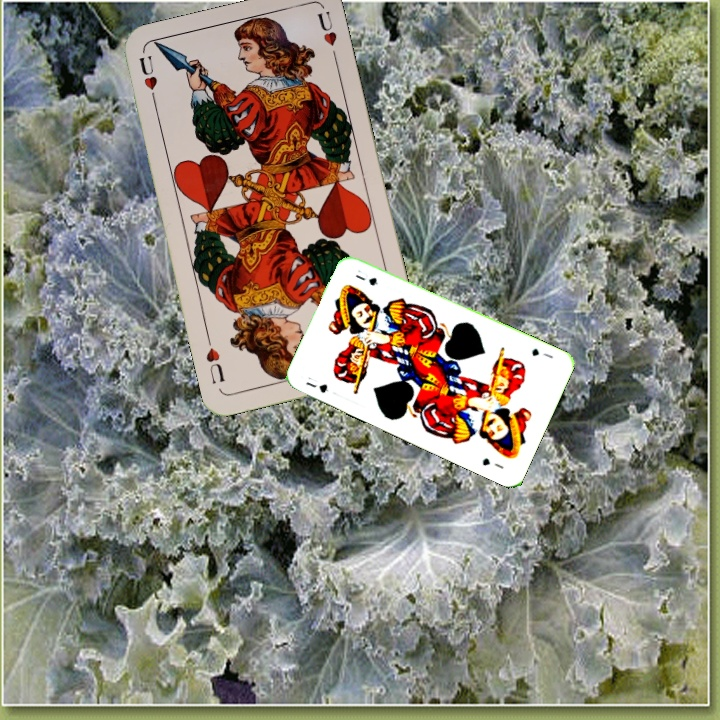GU: (302, 373, 331, 396), (528, 344, 556, 361)
HU: (135, 52, 160, 108)
